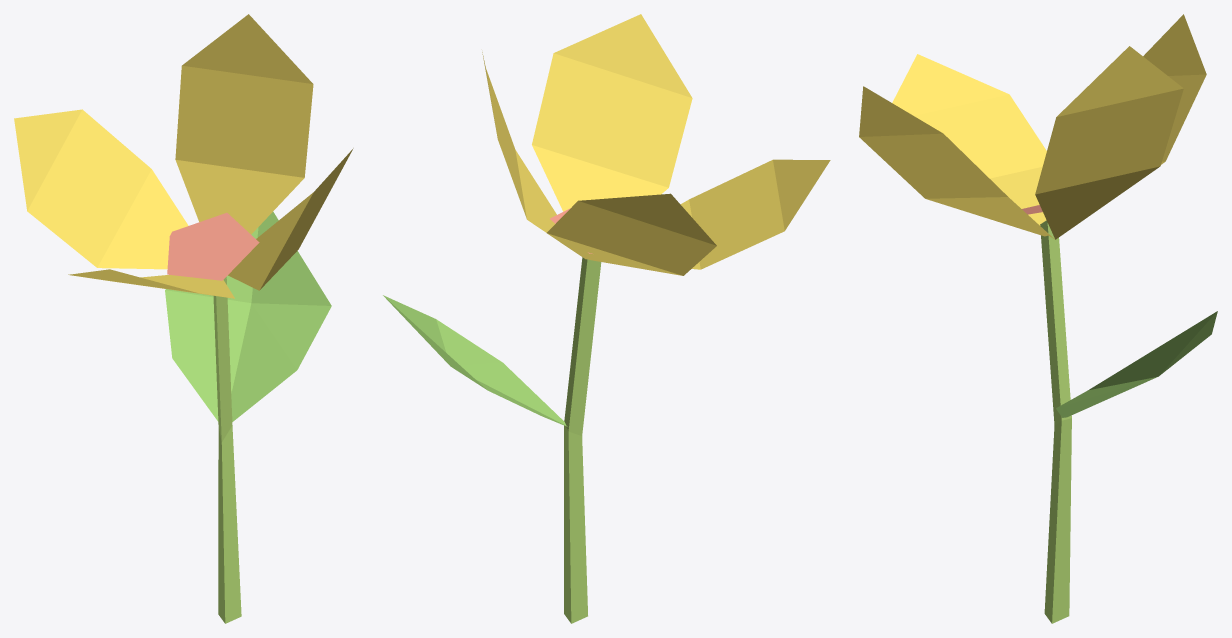
Rendered from Flower_d_OneS_05.fbx.
3 views of the same model, side by side, from view 1: azimuth 30°, elevation 25°; view 2: azimuth 150°, elevation 25°; view 3: azimuth 270°, elevation 25° (orthographic). The views are drawn at different scales.
Parts seen in each view (by area): view 1: Flower_d_OneS_05; view 2: Flower_d_OneS_05; view 3: Flower_d_OneS_05.
Part boxes in pixels (x1,y1,x2,y2): Flower_d_OneS_05: (14,14,353,623); Flower_d_OneS_05: (383,14,830,623); Flower_d_OneS_05: (859,14,1217,623).
Size of the model in its own units: 19.82 by 35.43 by 19.19.
